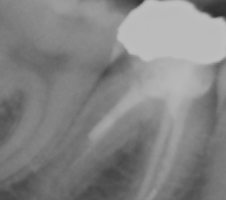fracture: (89, 191, 153, 200)
